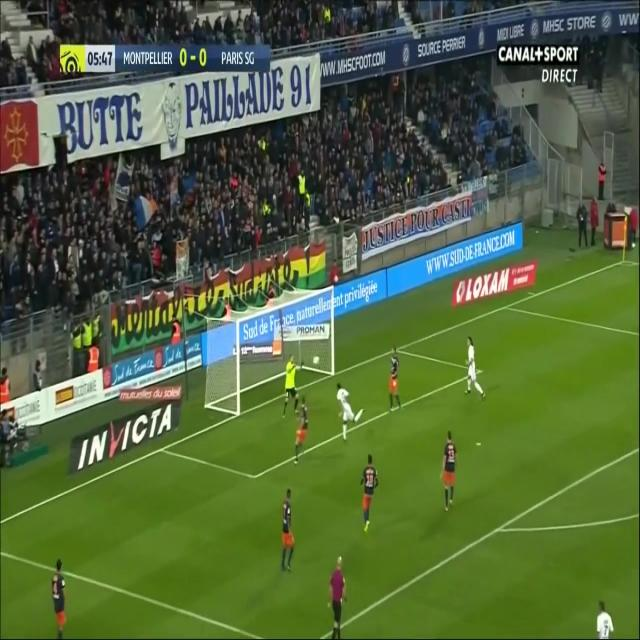Ball: (311, 352, 322, 367)
Goalkeeper: (280, 351, 305, 418)
Player: (335, 379, 367, 444), (47, 556, 70, 640), (462, 334, 488, 401), (276, 487, 296, 573), (359, 454, 380, 533), (439, 430, 458, 513), (292, 397, 309, 467), (387, 343, 403, 412), (595, 595, 616, 640)
Referee: (326, 551, 350, 640)
